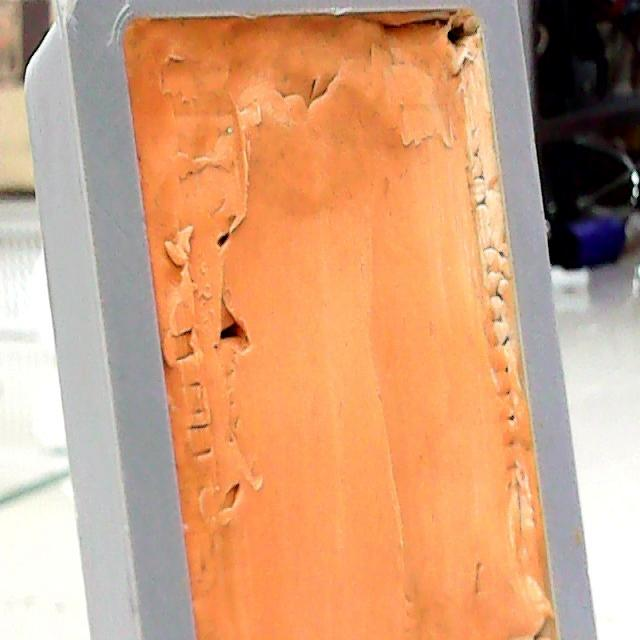block: (16, 0, 605, 640)
